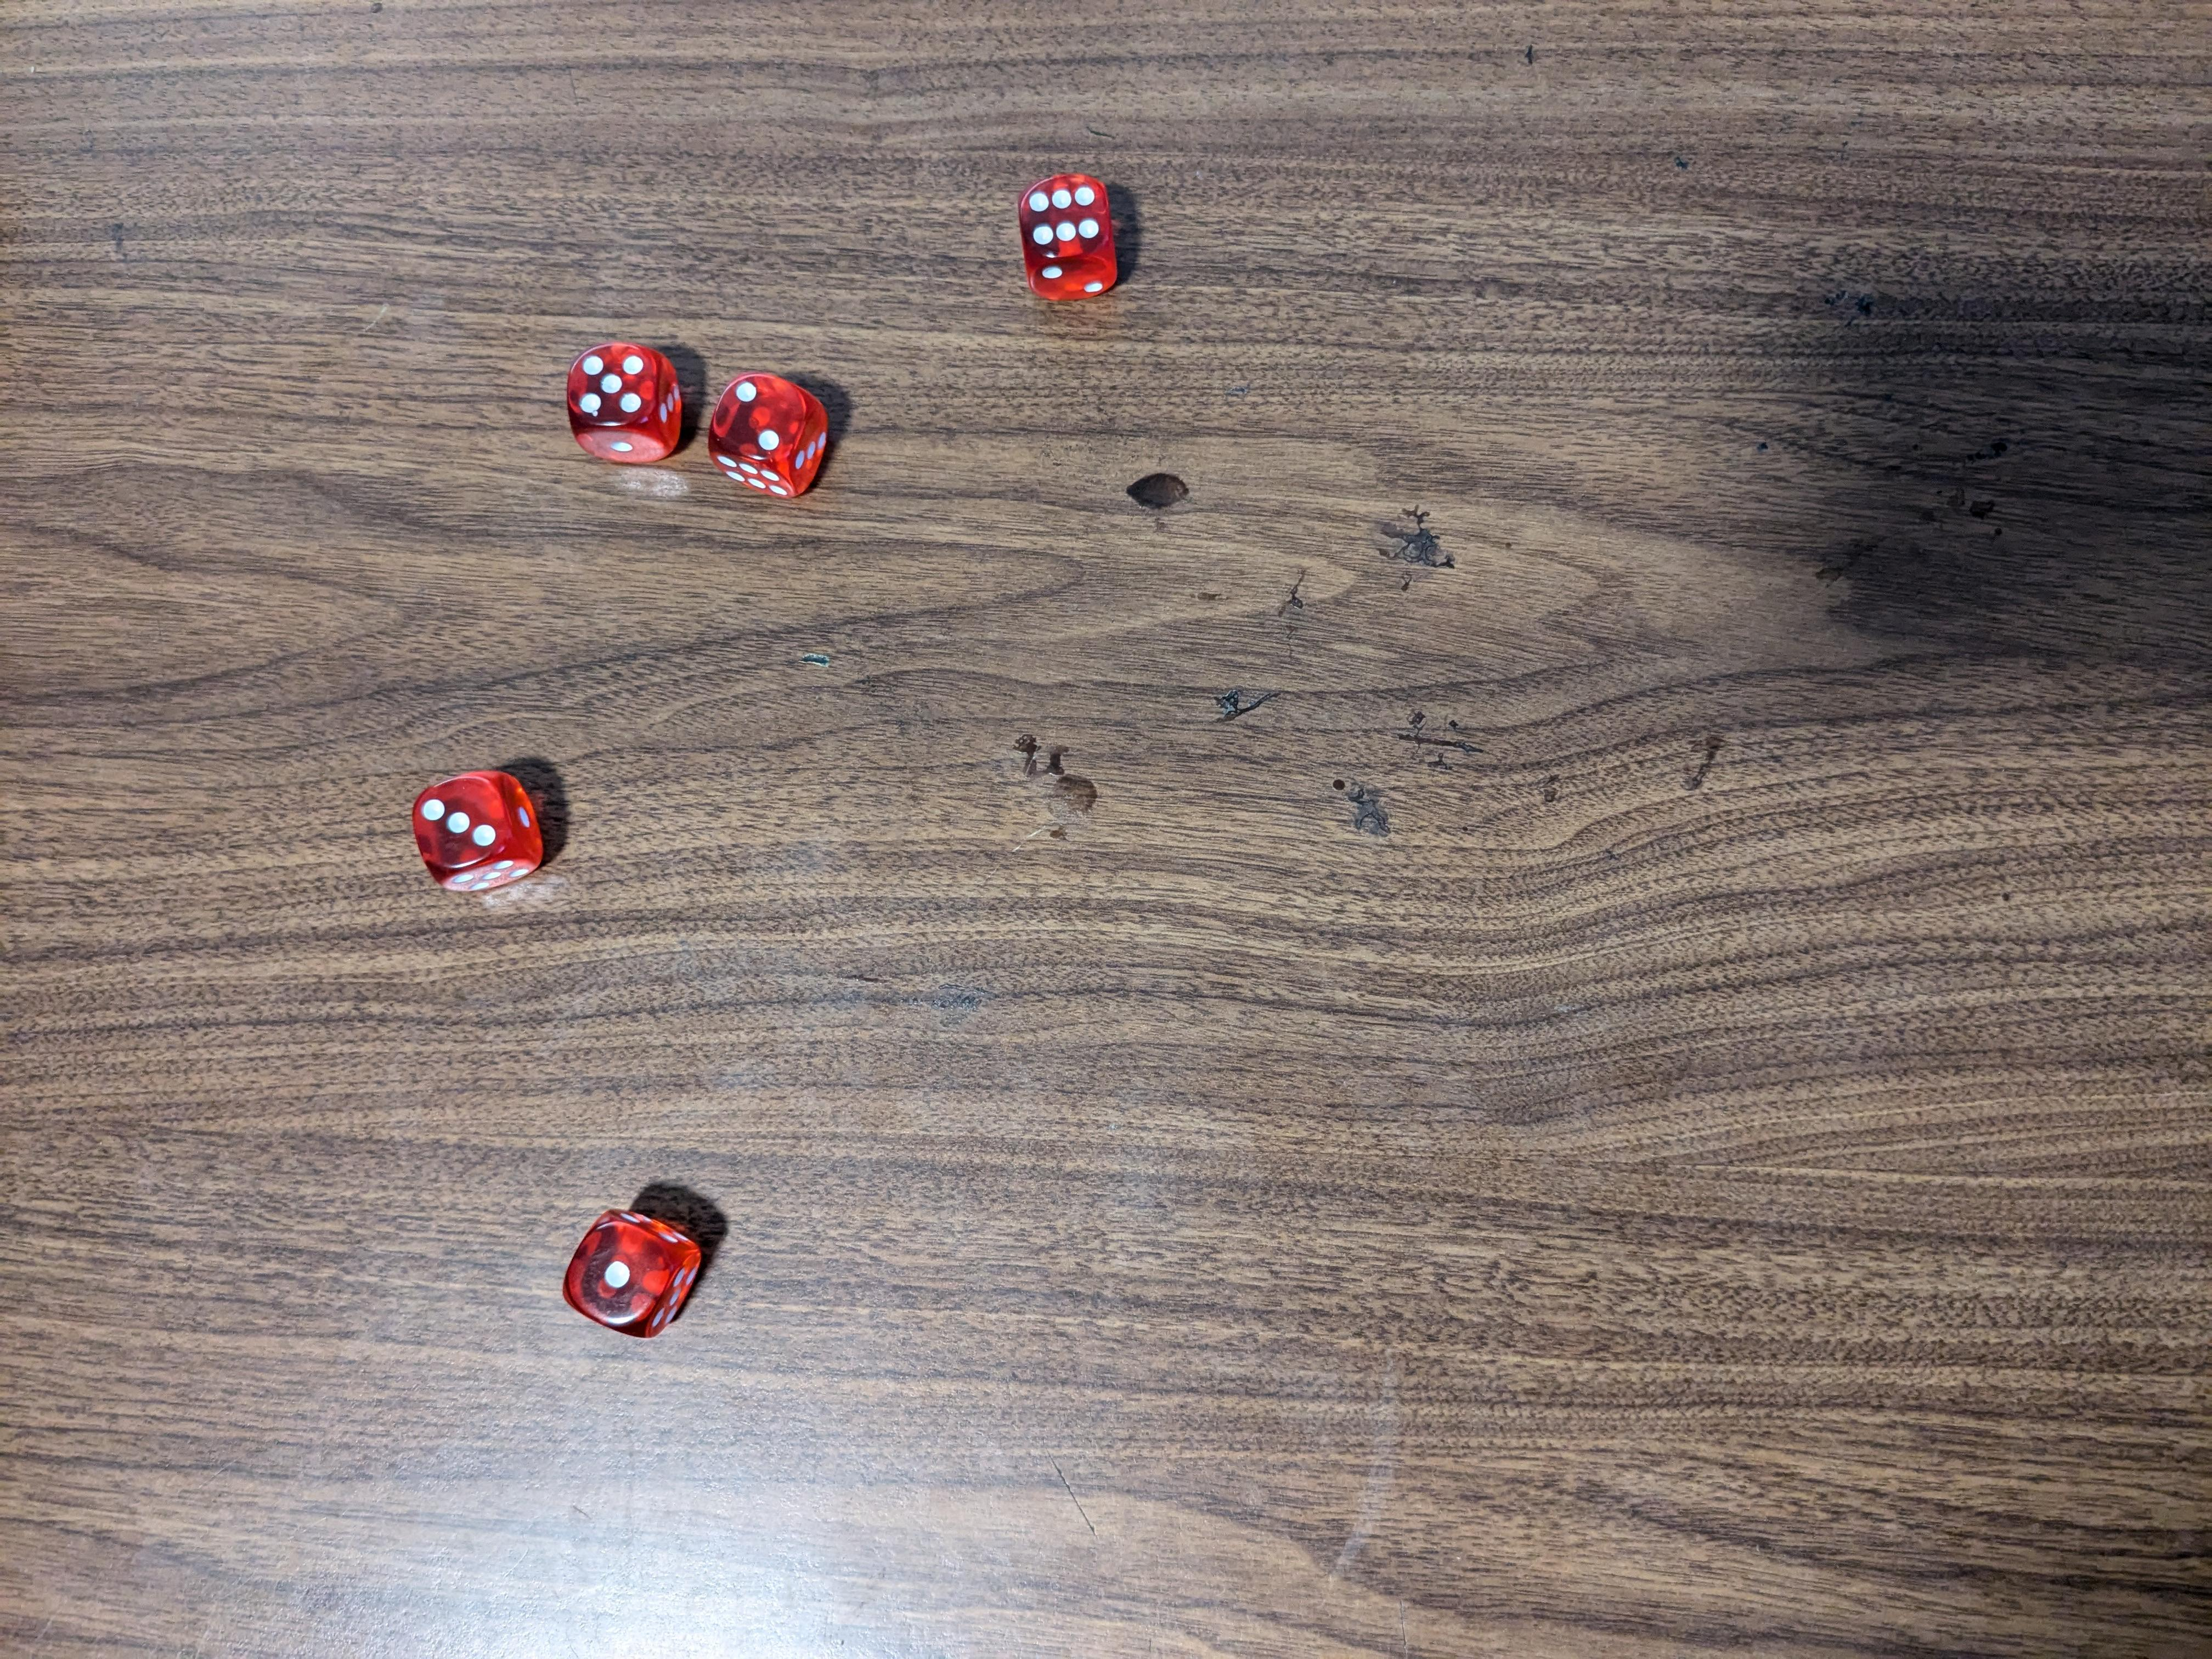five: (563, 336, 686, 462)
one: (566, 1208, 705, 1335)
six: (1015, 169, 1123, 298)
three: (406, 767, 545, 894)
two: (709, 371, 840, 505)
